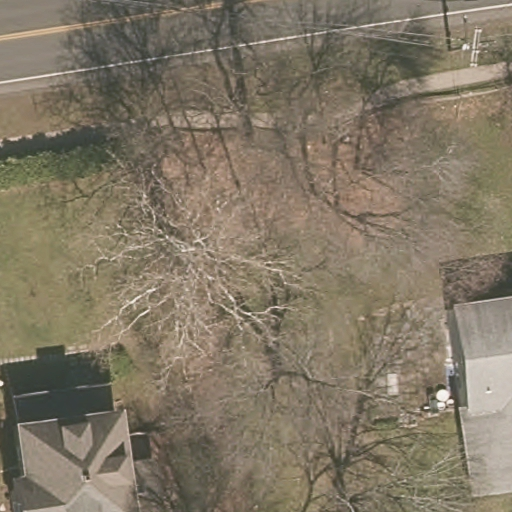DT: (462, 25, 483, 67)
